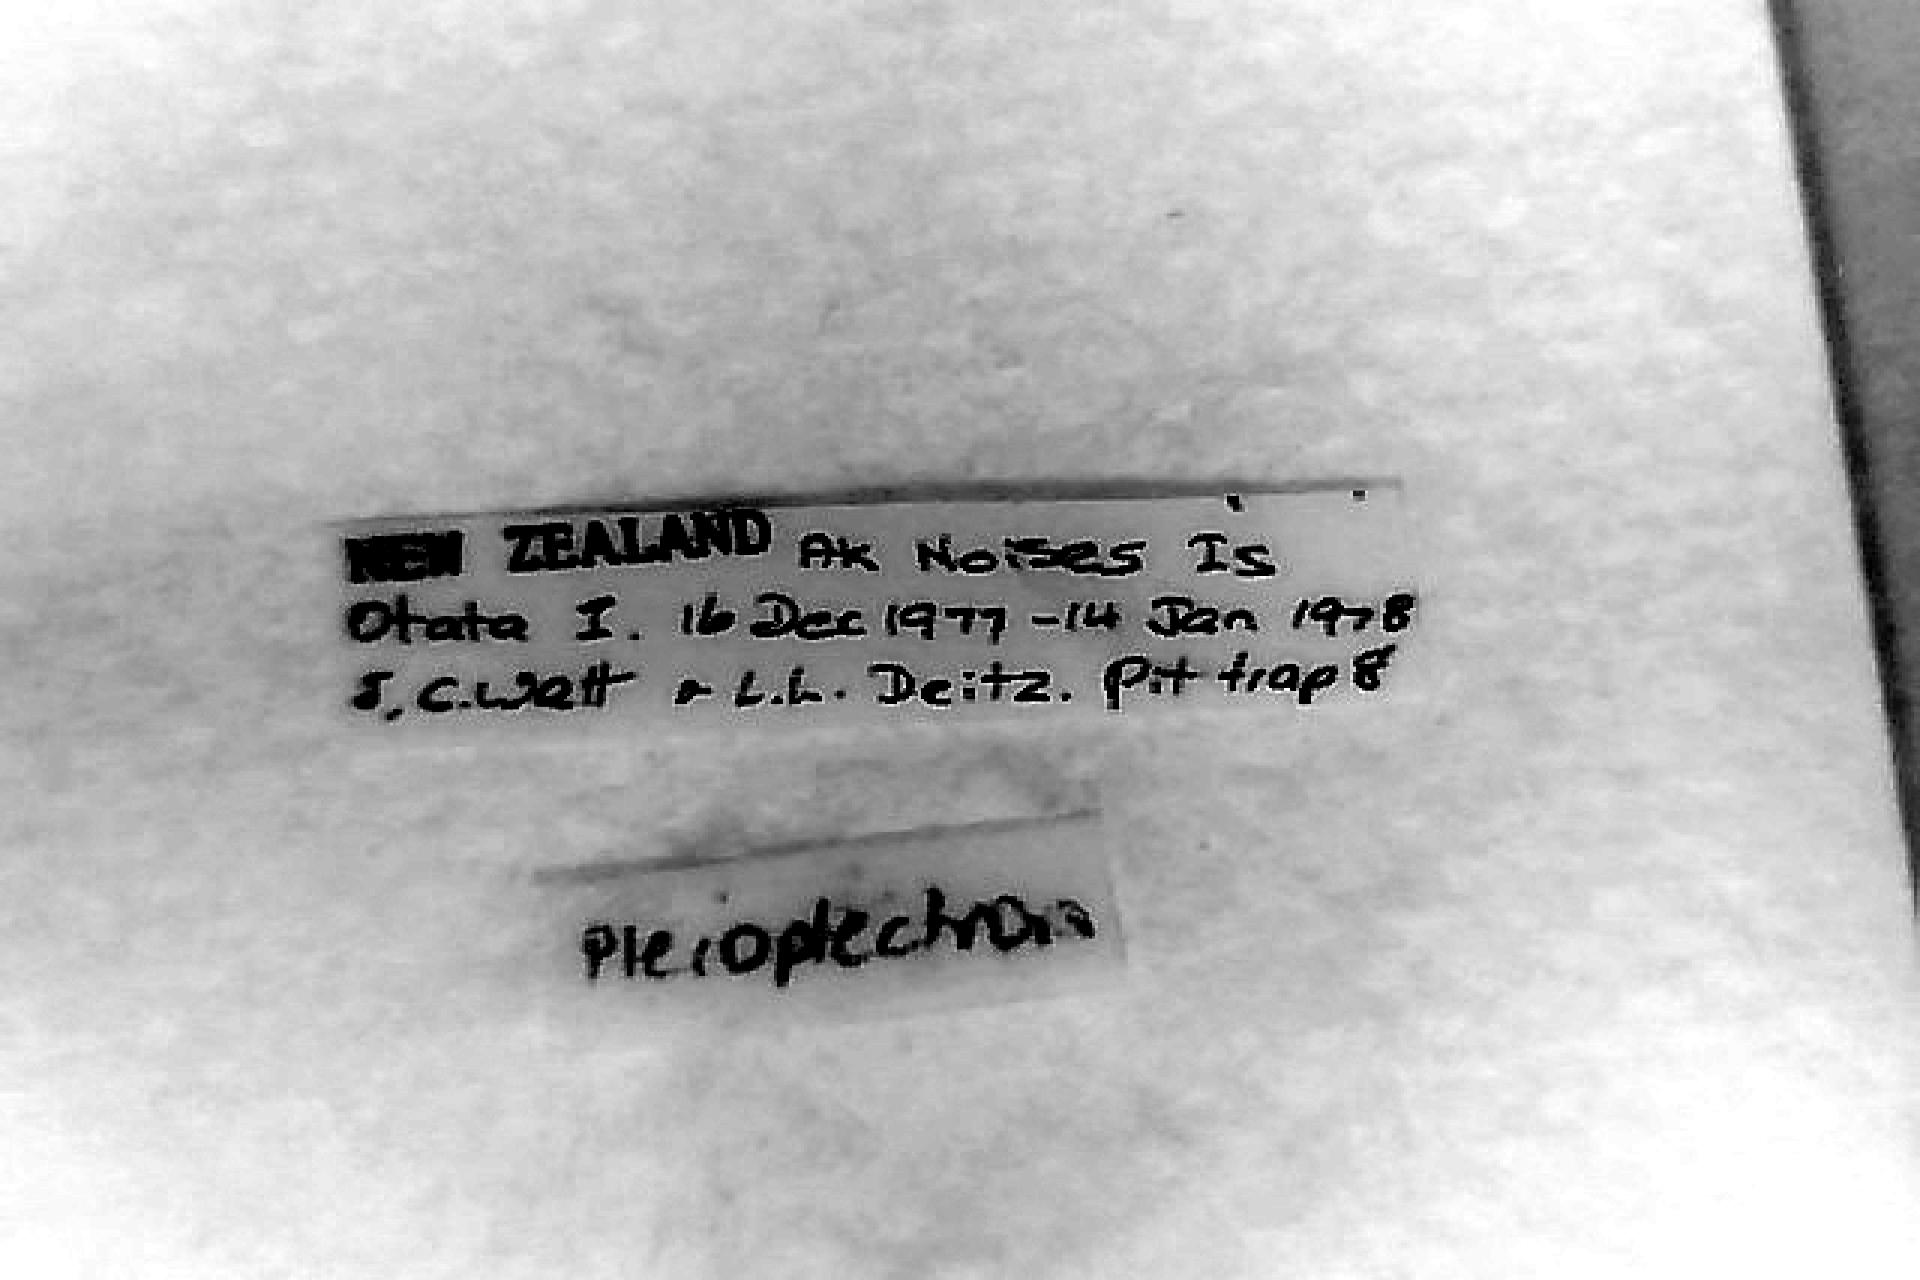hand_label: (542, 813, 1121, 1025)
mixed_label: (341, 483, 1418, 723)
